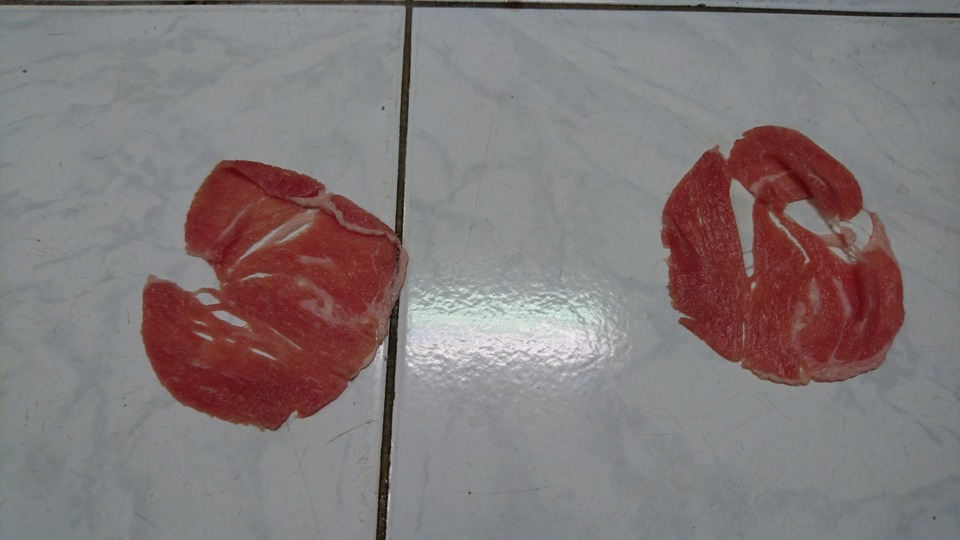restructured meat: (629, 113, 921, 394), (140, 135, 419, 422)
